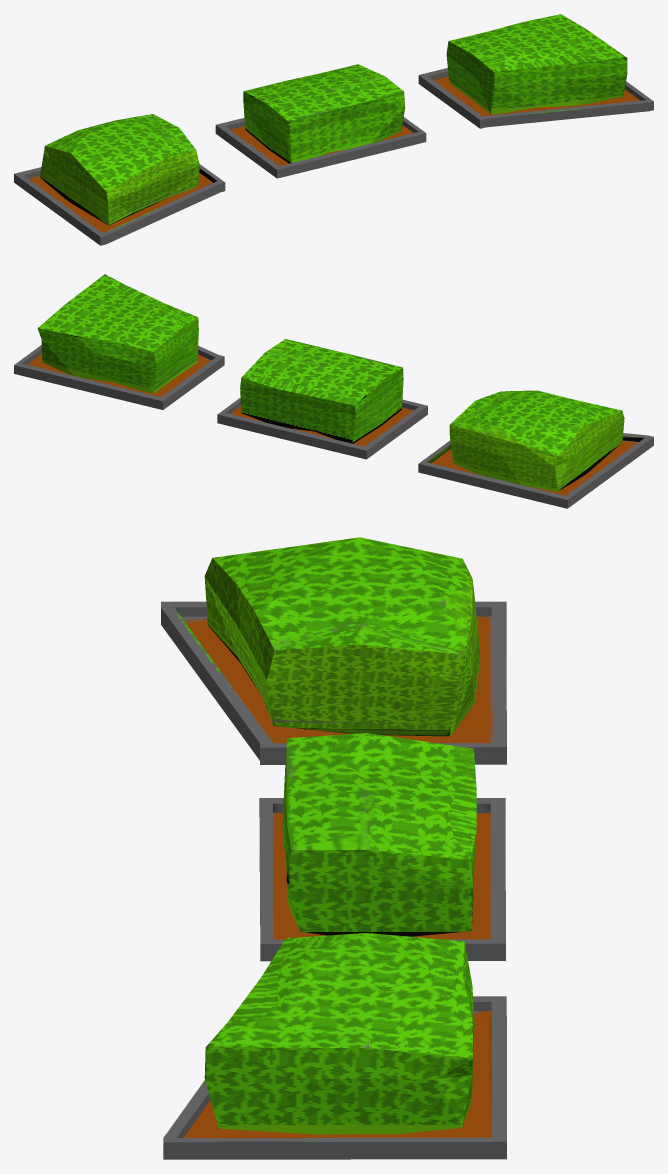
The model's file is Taman_semak.fbx.
3 views of the same model, one above another, from view 1: azimuth 30°, elevation 25°; view 2: azimuth 150°, elevation 25°; view 3: azimuth 270°, elevation 25° (orthographic). The views are drawn at different scales.
Parts seen in each view (by area): view 1: 2, 1, 3; view 2: 1, 2, 3; view 3: 2, 1, 3.
Part boxes in pixels (left/top/right/bottom): 2: left=418, top=14, right=653, bottom=128; 1: left=14, top=114, right=225, bottom=245; 3: left=215, top=64, right=426, bottom=178; 1: left=418, top=390, right=653, bottom=508; 2: left=14, top=274, right=224, bottom=409; 3: left=217, top=339, right=427, bottom=459; 2: left=163, top=933, right=506, bottom=1159; 1: left=161, top=537, right=506, bottom=764; 3: left=259, top=733, right=505, bottom=961.
Size of the model in its own units: 2186 by 198 by 592.
